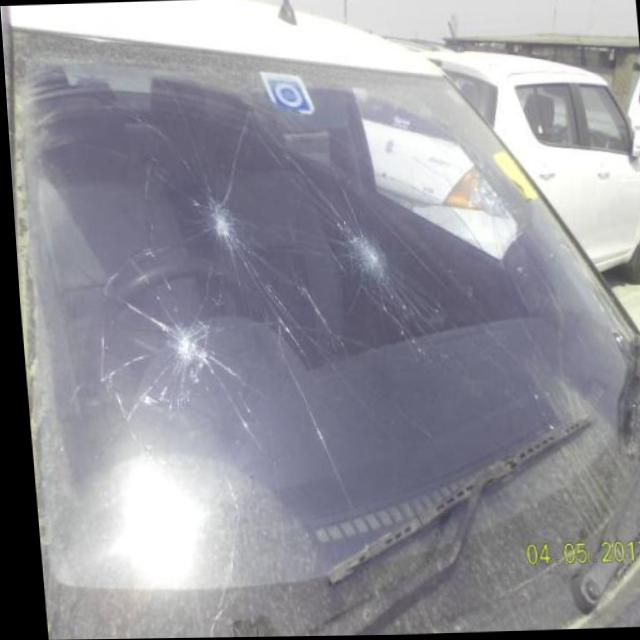Car-Damage: (133, 287, 226, 393), (461, 174, 517, 230), (341, 233, 390, 290), (199, 196, 238, 245)
